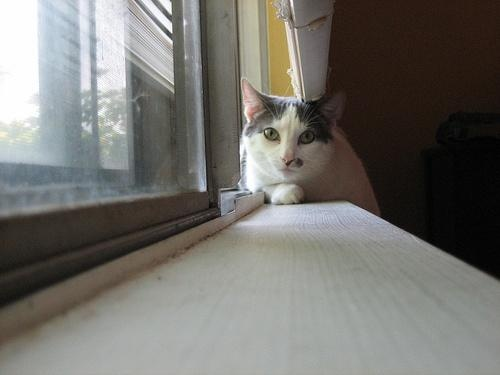cat: (231, 70, 387, 221)
